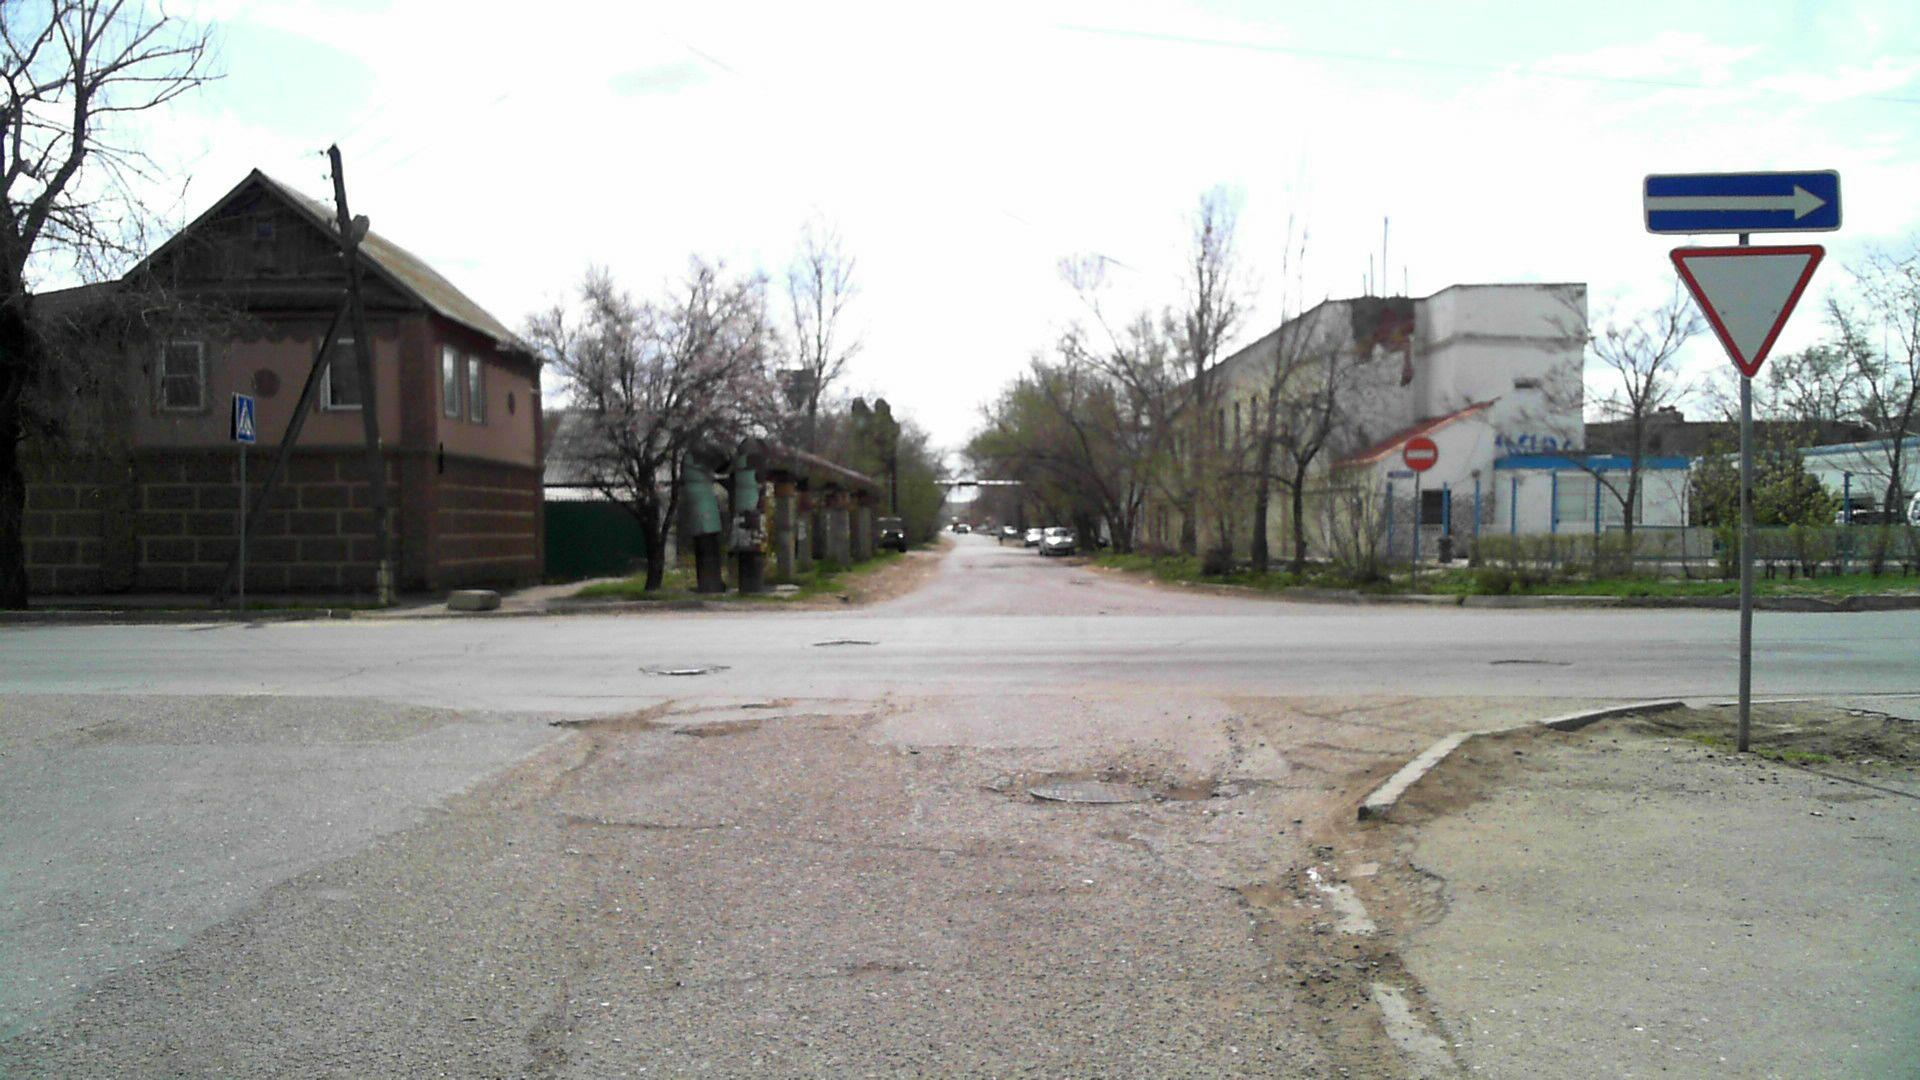2_4: (1666, 243, 1824, 380)
3_1: (1404, 437, 1439, 472)
5_7_1: (1646, 165, 1846, 236)
